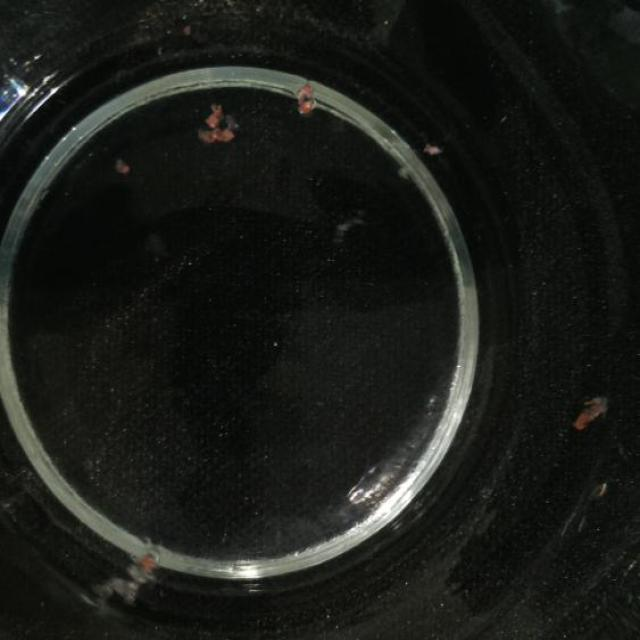fiber: (85, 540, 191, 616), (194, 99, 250, 148), (572, 398, 615, 445), (324, 200, 368, 244), (285, 81, 330, 119), (105, 137, 138, 179), (418, 136, 449, 175), (387, 157, 417, 186)
